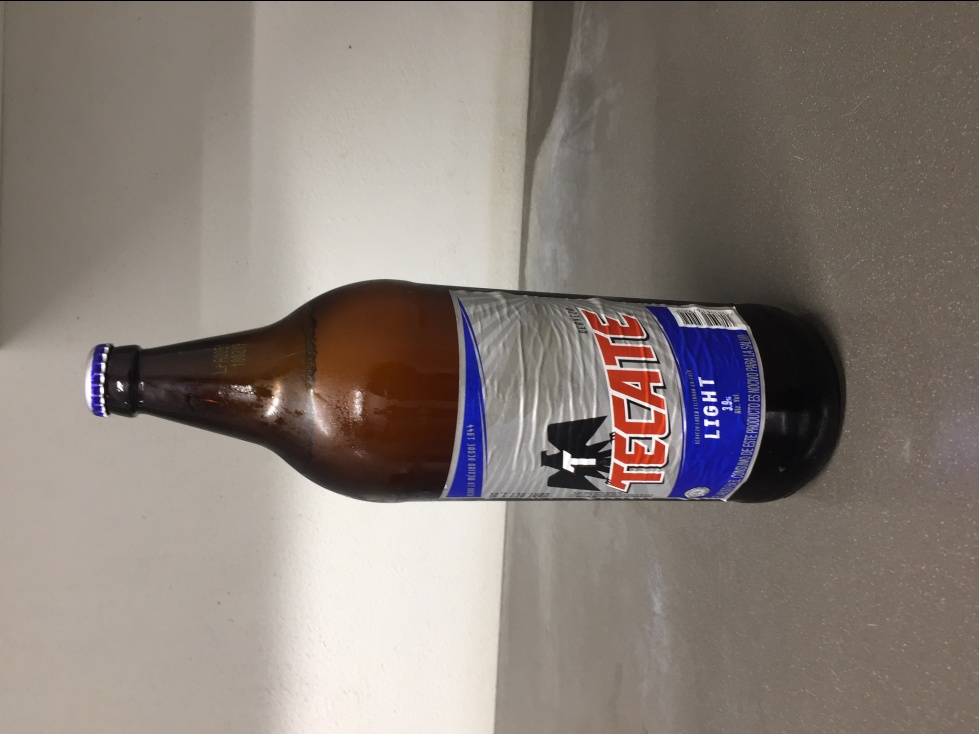tecateC: (82, 278, 846, 503)
